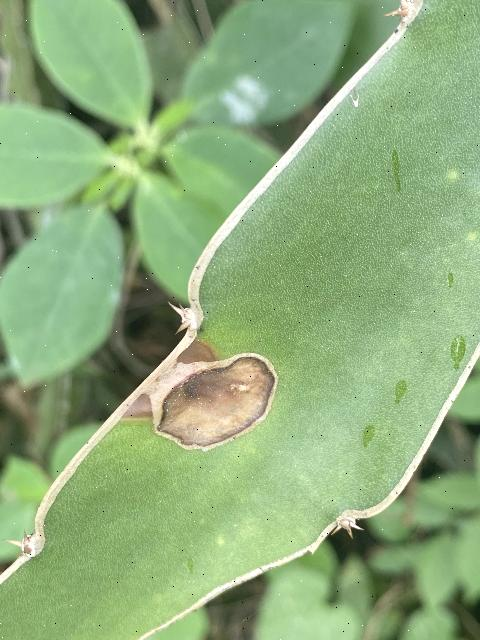stemcanker: (96, 324, 290, 468)
